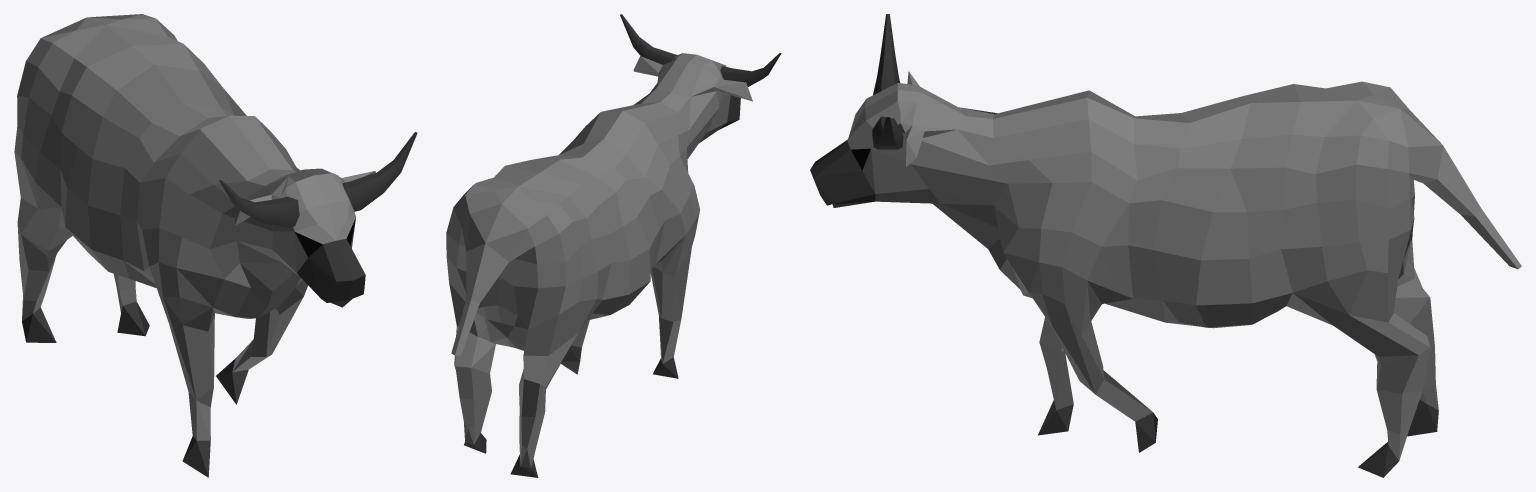
The model's file is Bull.FBX.
3 renders of one model, left to right at view 1: azimuth 30°, elevation 25°; view 2: azimuth 150°, elevation 25°; view 3: azimuth 270°, elevation 25°, orthographic. The views are drawn at different scales.
Visible parts, largest first — view 1: Bull; view 2: Bull; view 3: Bull.
Part boxes in pixels (x1=…): Bull: x1=14, y1=14, x2=417, y2=477; Bull: x1=446, y1=14, x2=781, y2=477; Bull: x1=810, y1=14, x2=1521, y2=477.
Size of the model in its own units: 1.1 by 1.93 by 3.2.
1 material, 1 textured.
